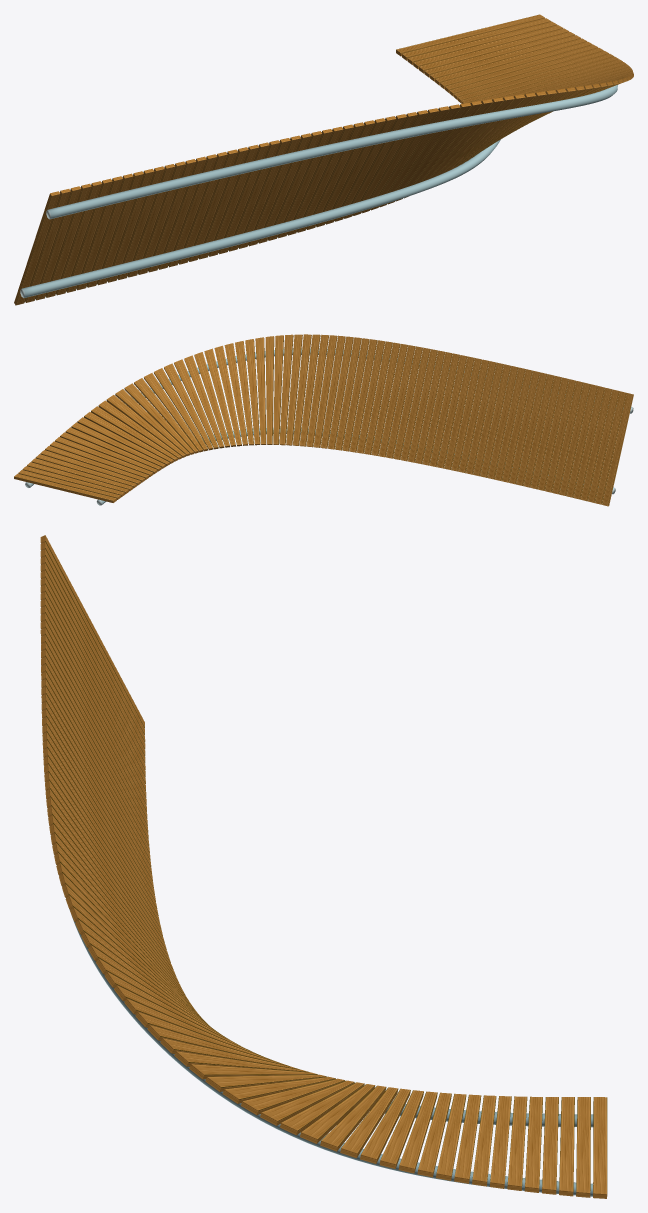
File: WeightSurfChunk90_B.fbx
3 renders of one model, top to bottom at view 1: azimuth 30°, elevation 25°; view 2: azimuth 150°, elevation 25°; view 3: azimuth 270°, elevation 25°, orthographic. The views are drawn at different scales.
Visible parts, largest first — view 1: WeightSurfChunk90_B, WeightSurfChunk90_B_LRAIL, WeightSurfChunk90_B_RRAIL; view 2: WeightSurfChunk90_B, WeightSurfChunk90_B_LRAIL, WeightSurfChunk90_B_RRAIL; view 3: WeightSurfChunk90_B, WeightSurfChunk90_B_LRAIL.
Part boxes in pixels (x1,y1,x2,y2): WeightSurfChunk90_B: [14, 14, 633, 305]; WeightSurfChunk90_B_LRAIL: [46, 85, 617, 219]; WeightSurfChunk90_B_RRAIL: [20, 139, 500, 298]; WeightSurfChunk90_B: [14, 334, 633, 506]; WeightSurfChunk90_B_LRAIL: [25, 348, 633, 487]; WeightSurfChunk90_B_RRAIL: [96, 427, 615, 505]; WeightSurfChunk90_B: [40, 535, 607, 1198]; WeightSurfChunk90_B_LRAIL: [69, 909, 593, 1196].
Size of what is drawn, in the model's own units: 160 by 82.23 by 33.45.
